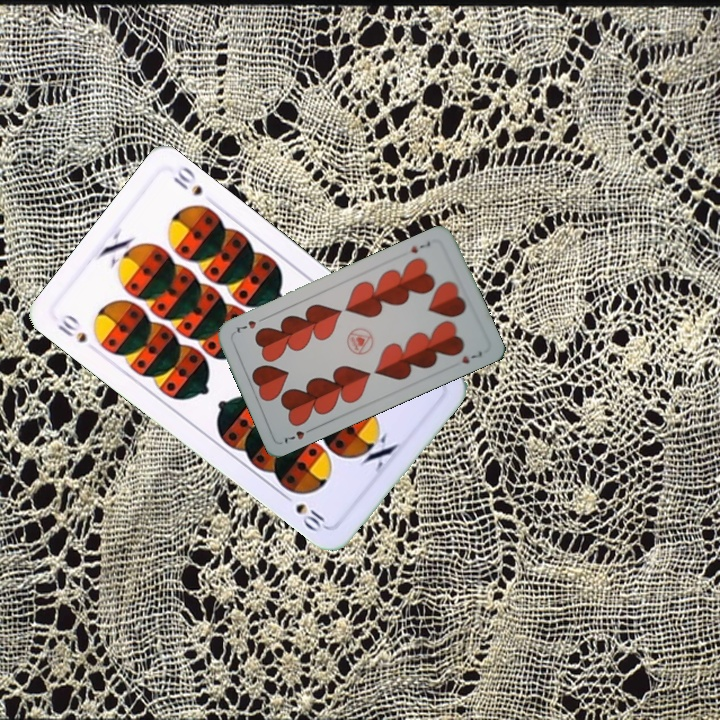H7: (280, 423, 317, 447), (407, 237, 433, 256)
S10: (53, 310, 90, 346)
